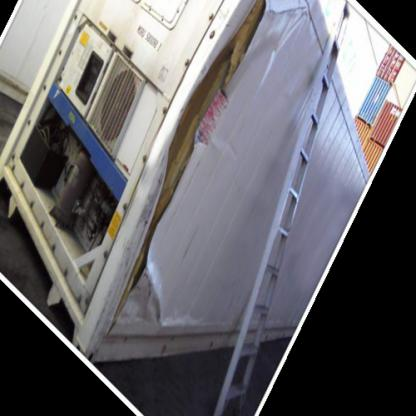Damage: (129, 11, 260, 346)
